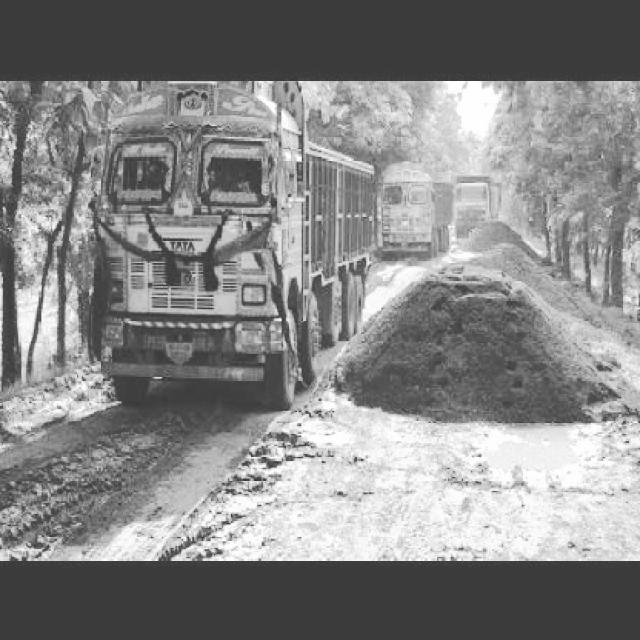HCV: (43, 74, 312, 380), (385, 131, 450, 266), (458, 163, 506, 222)
